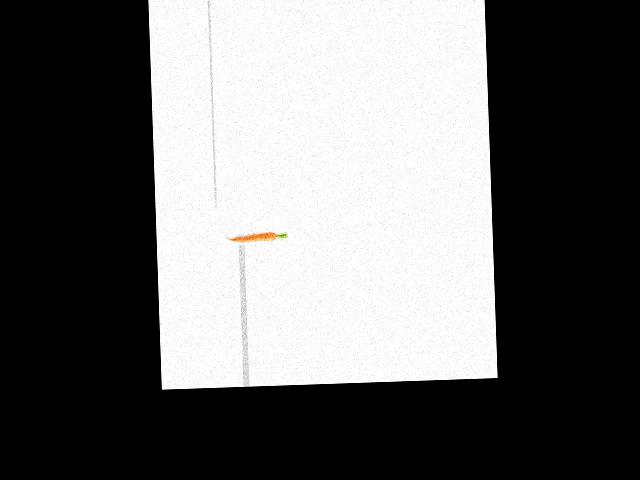carrot: (237, 230, 280, 245)
